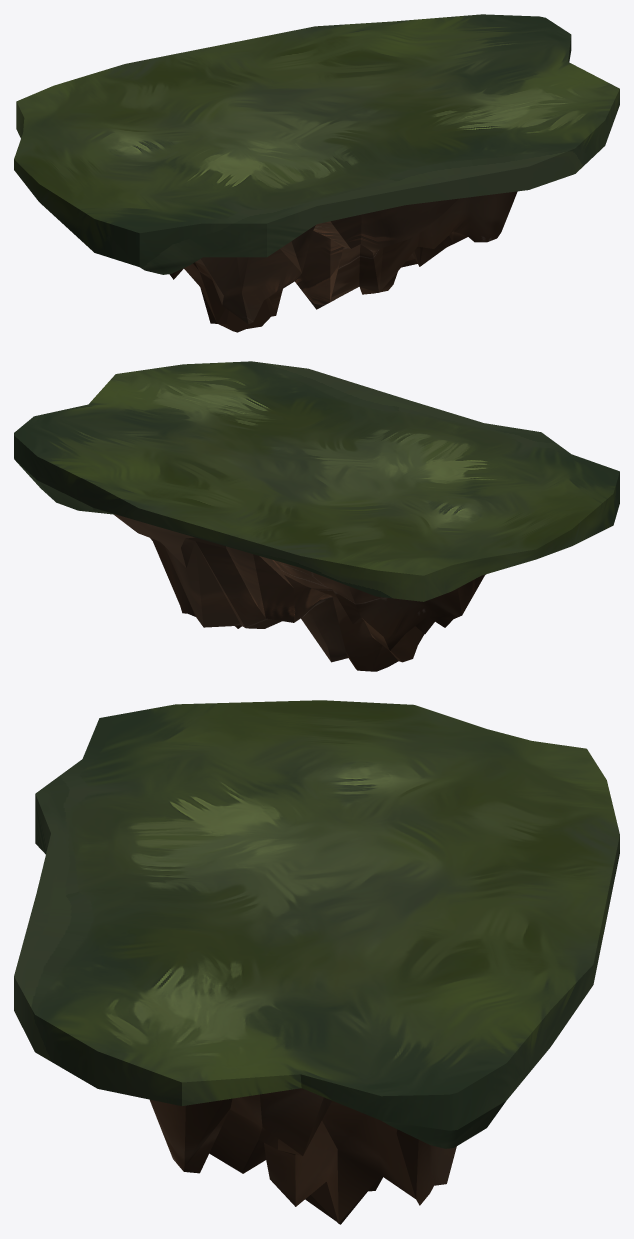
Rendered from wyspa_duza_prostokat_2.obj.
The picture shows the model from 3 angles, top to bottom: view 1: azimuth 30°, elevation 25°; view 2: azimuth 150°, elevation 25°; view 3: azimuth 270°, elevation 25°; orthographic projection. The views are drawn at different scales.
Parts seen in each view (by area): view 1: Landscape.002; view 2: Landscape.002; view 3: Landscape.002.
Boxes of the visible parts, x1,y1,x2,y2 form: Landscape.002: (14,14,619,332); Landscape.002: (14,361,619,671); Landscape.002: (14,700,619,1224).
Bounding box in the file's own units: 132 × 45.92 × 85.49.
2 materials, 2 textured.
